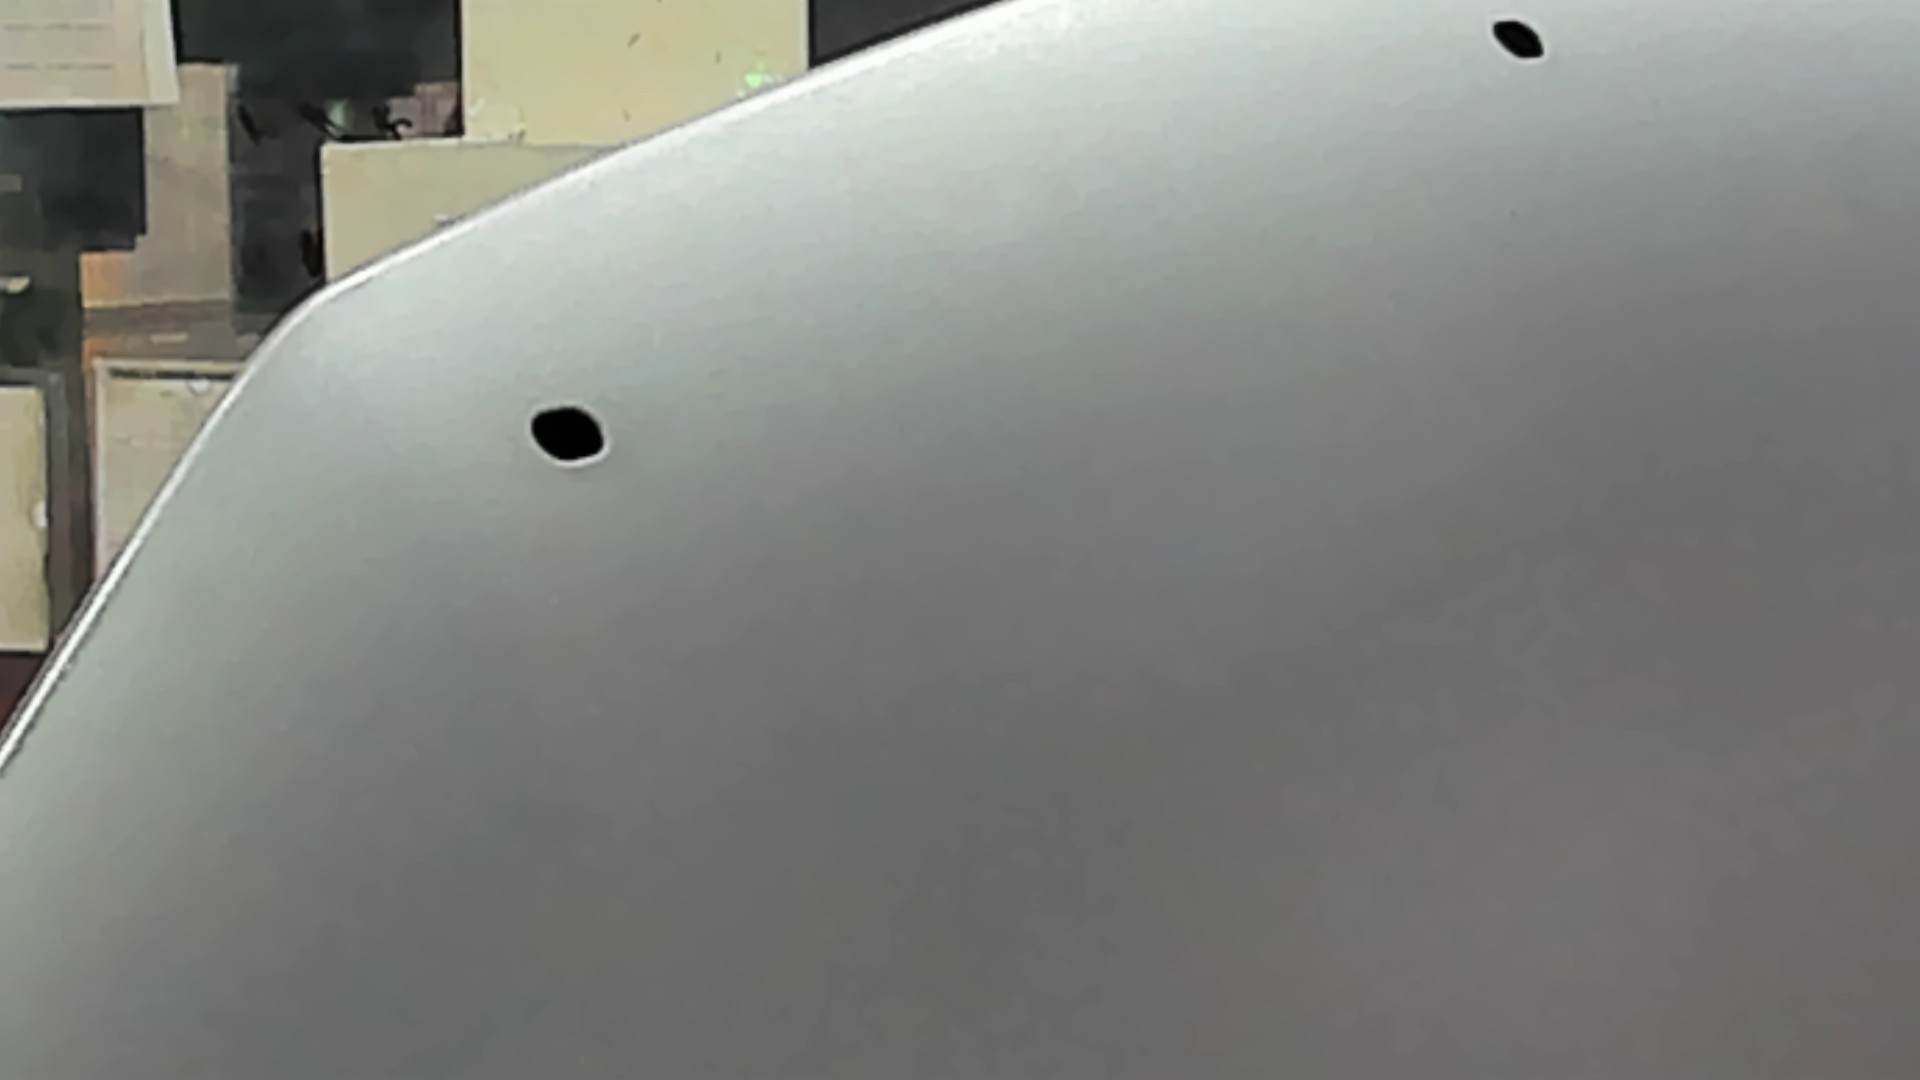chico: (518, 394, 618, 472), (1477, 4, 1556, 74)
